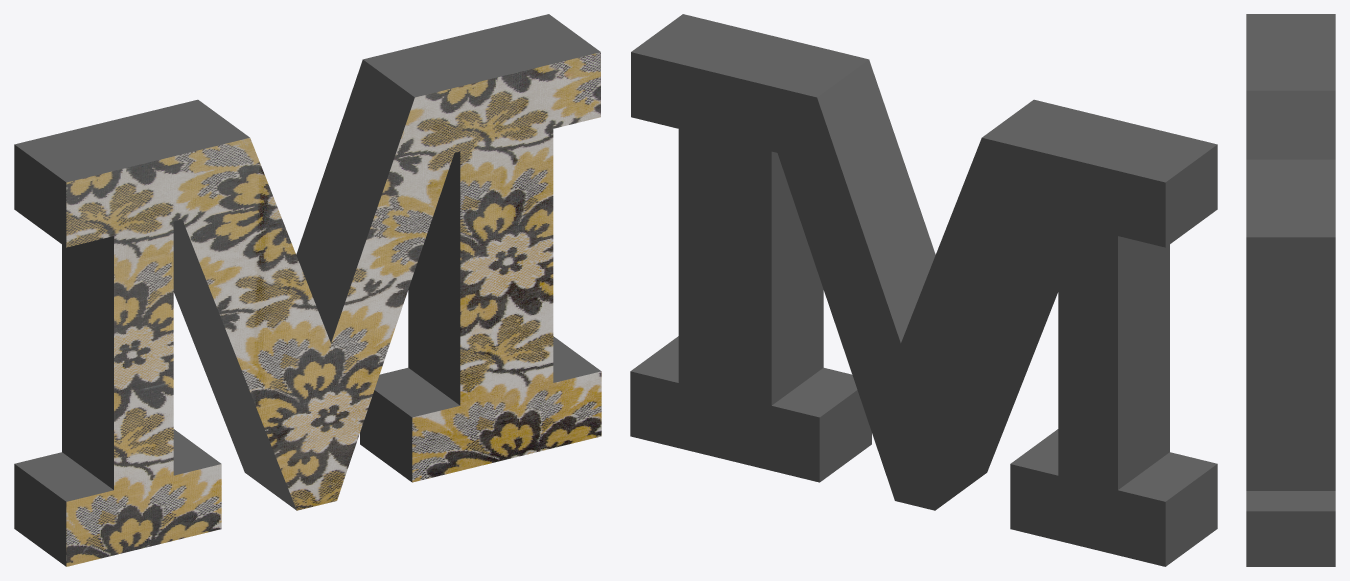
File: Mface.dae
3 views of the same model, side by side, from view 1: azimuth 30°, elevation 25°; view 2: azimuth 150°, elevation 25°; view 3: azimuth 270°, elevation 25° (orthographic). The views are drawn at different scales.
Visible parts, largest first — view 1: polySurface1; view 2: polySurface1; view 3: polySurface1.
Part boxes in pixels (left/top/right/bottom): polySurface1: left=14, top=14, right=601, bottom=566; polySurface1: left=630, top=14, right=1217, bottom=566; polySurface1: left=1246, top=14, right=1335, bottom=566.
Bounding box in the file's own units: 297 × 204 × 50.
2 materials, 1 textured.
